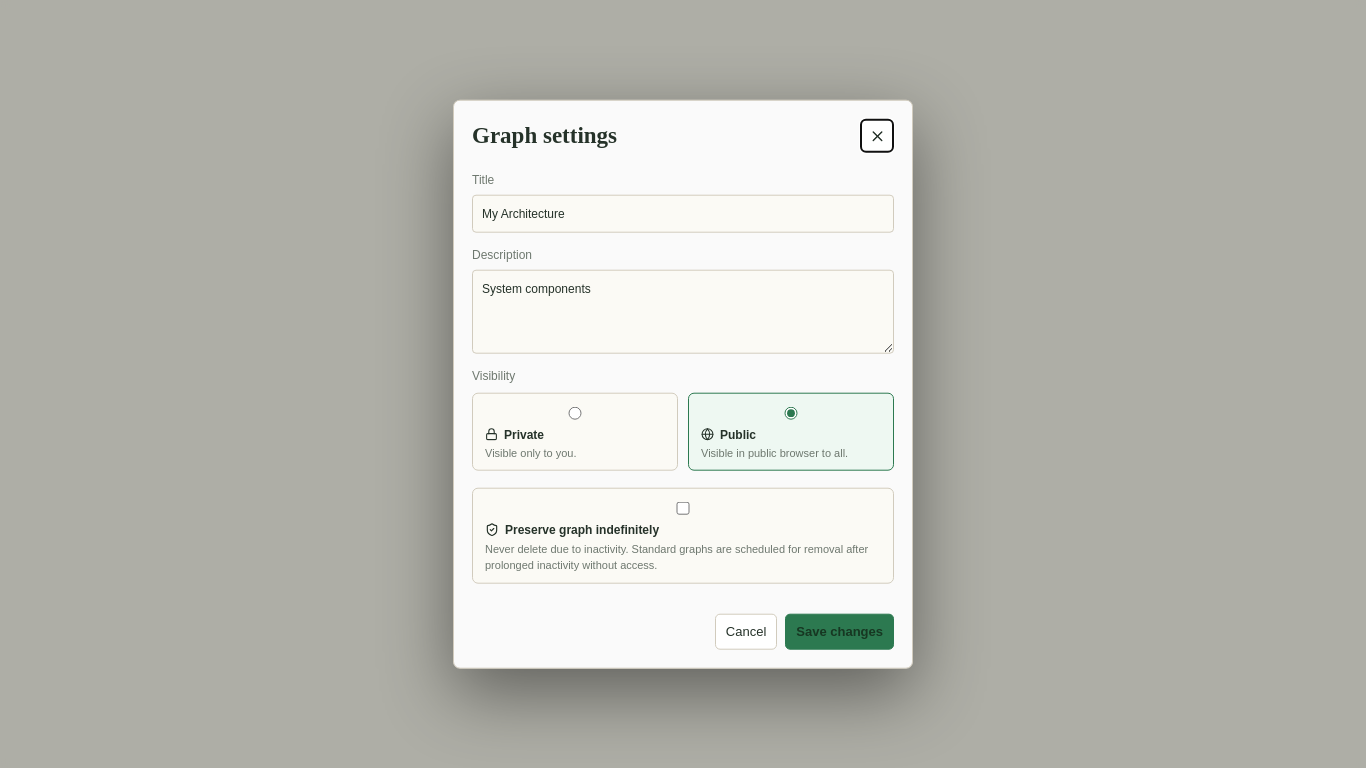
it: GraphSettingsDialog › shows warning when changing from public to private with viewers
This screenshot has width=1366, height=768.
Click the radio button labelled "Private Visible only to you." at (575,413), box [485, 406, 665, 419]
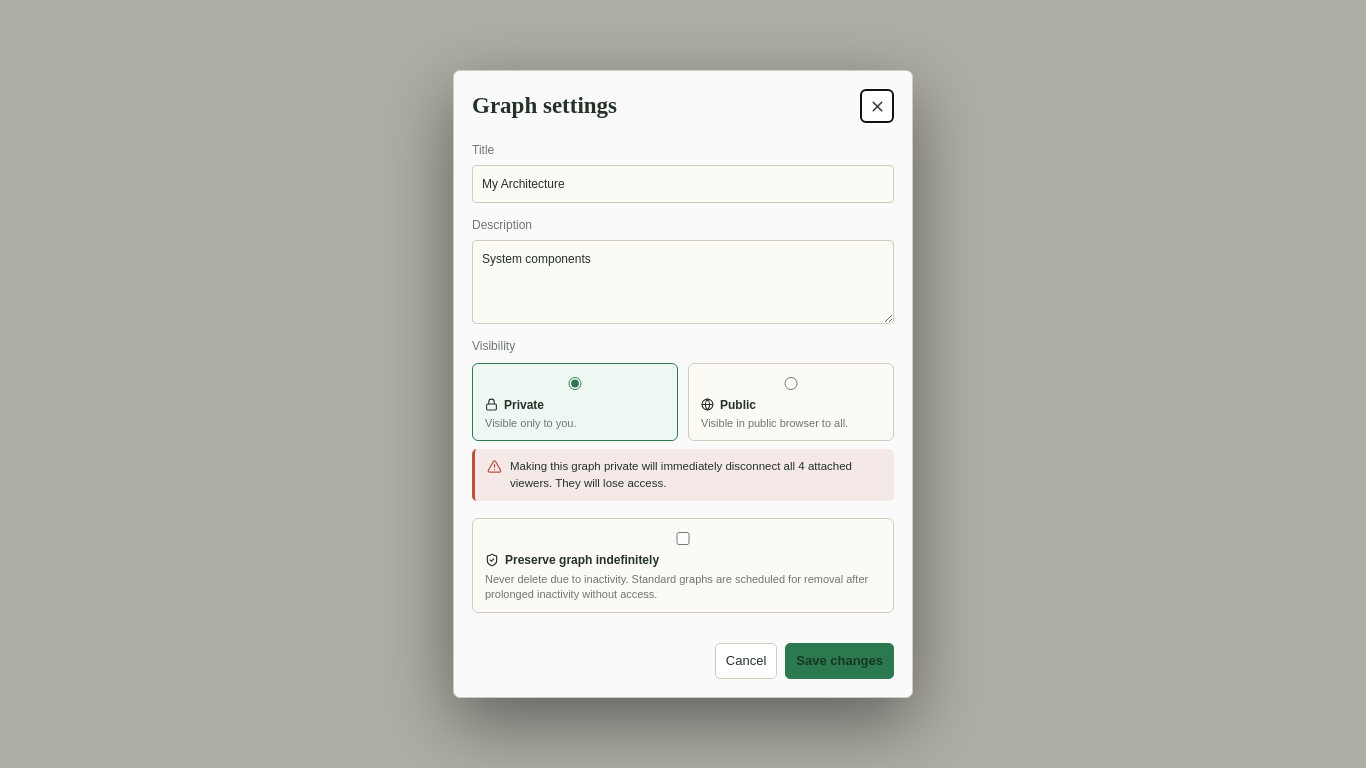
expect the text "immediately disconnect all 4 attached viewers" is shown: met, box [510, 458, 882, 492]
